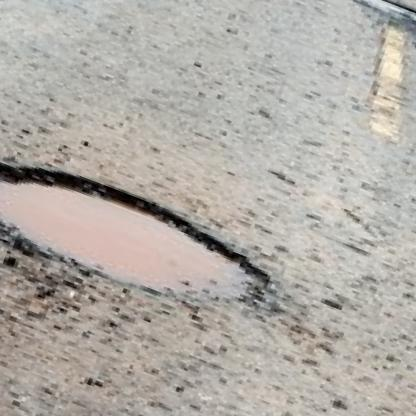pothole: (0, 128, 293, 343), (323, 0, 416, 90)
